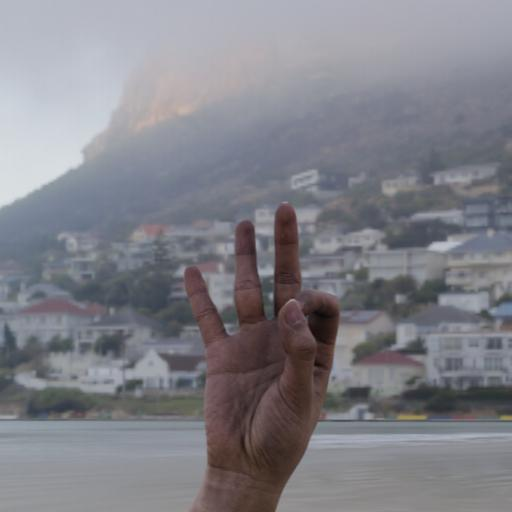F: (178, 192, 344, 512)
